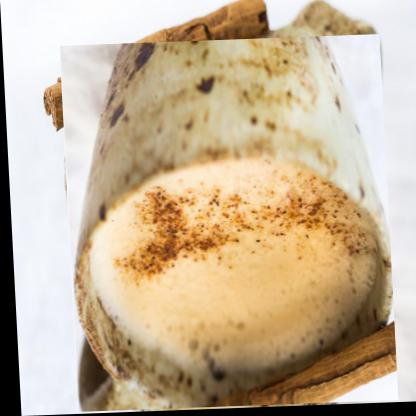milk_based_beverage: (59, 36, 395, 413)
